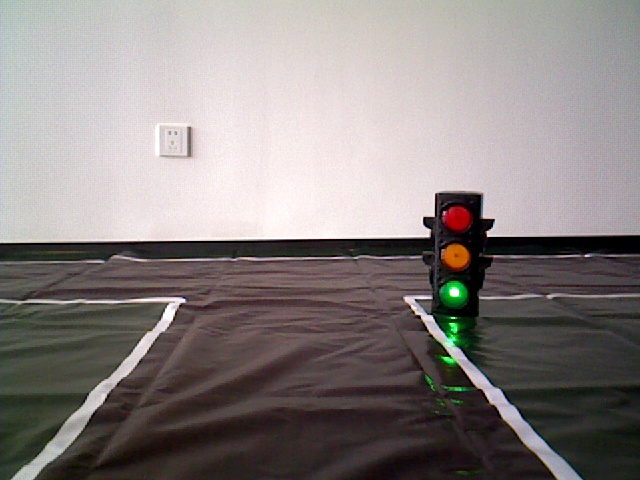green: (433, 196, 476, 311)
